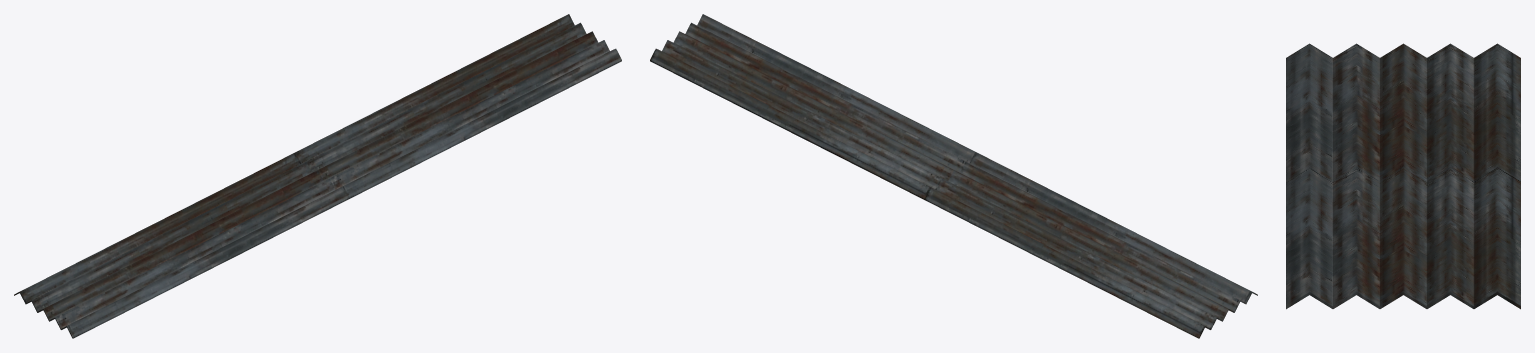
The model's file is roof_hr_3_side_2_angle_edge_2.obj.
3 renders of one model, left to right at view 1: azimuth 30°, elevation 25°; view 2: azimuth 150°, elevation 25°; view 3: azimuth 270°, elevation 25°, orthographic. The views are drawn at different scales.
Parts seen in each view (by area): view 1: roof_hr_3_side_2_angle_edge_2; view 2: roof_hr_3_side_2_angle_edge_2; view 3: roof_hr_3_side_2_angle_edge_2.
Part boxes in pixels (bbox=[...]): roof_hr_3_side_2_angle_edge_2: bbox=[14, 14, 621, 338]; roof_hr_3_side_2_angle_edge_2: bbox=[650, 14, 1257, 338]; roof_hr_3_side_2_angle_edge_2: bbox=[1286, 43, 1520, 309].
Size of the model in its own units: 4 by 1.06 by 0.7407.
